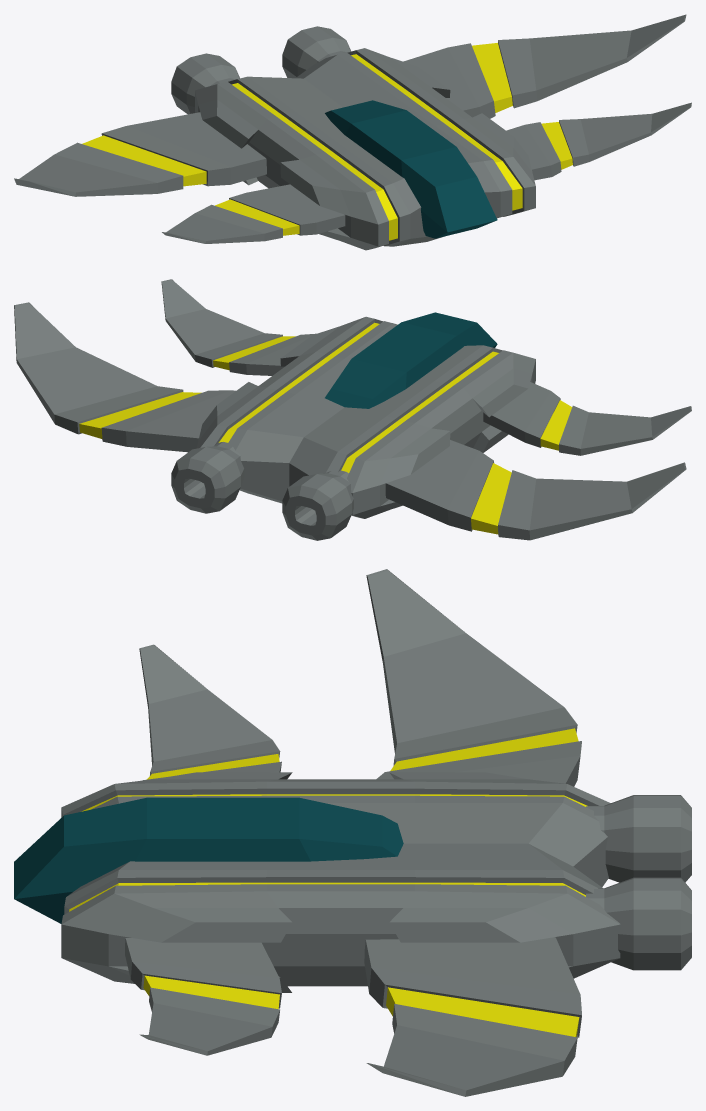
File: spaceship_7.fbx
3 renders of one model, top to bottom at view 1: azimuth 30°, elevation 25°; view 2: azimuth 150°, elevation 25°; view 3: azimuth 270°, elevation 25°, orthographic. The views are drawn at different scales.
Parts seen in each view (by area): view 1: spaceship.006; view 2: spaceship.006; view 3: spaceship.006.
Boxes of the visible parts, x1,y1,x2,y2 form: spaceship.006: (14,14,691,250); spaceship.006: (14,279,691,540); spaceship.006: (14,569,691,1096).
Size of the model in its own units: 1606 by 205 by 920.
